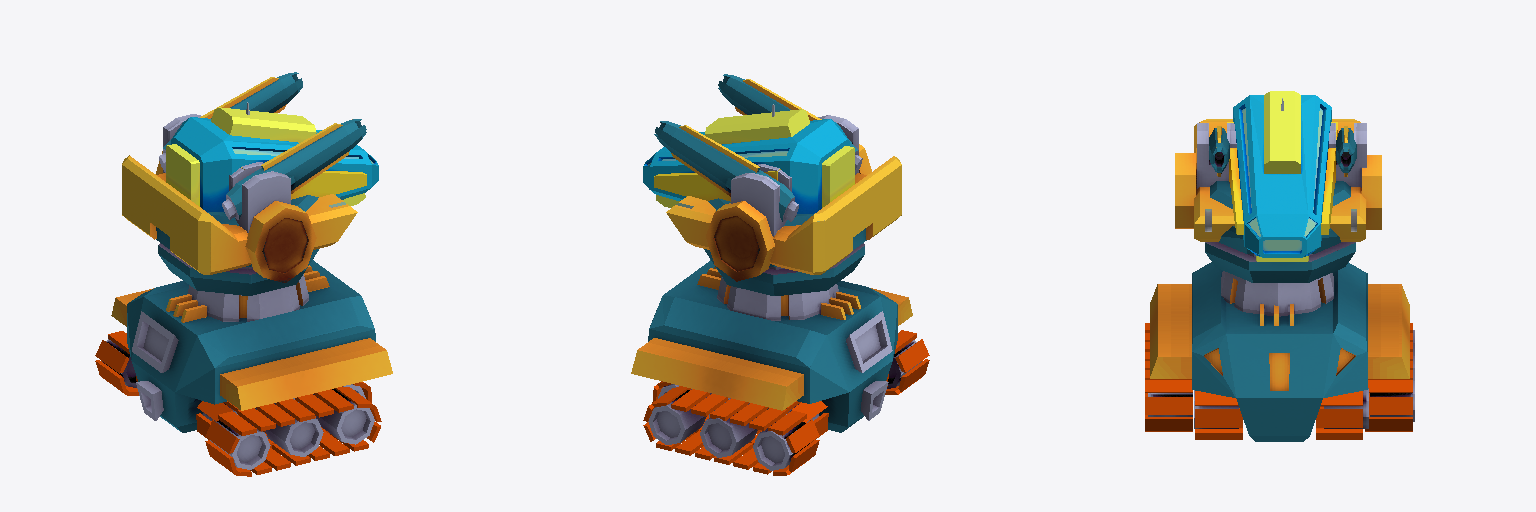
3 views of the same model, side by side, from view 1: azimuth 30°, elevation 25°; view 2: azimuth 150°, elevation 25°; view 3: azimuth 270°, elevation 25° (orthographic).
Visible parts, largest first — view 1: Object008, Box020, Object014, Box018, Box019, Box017; view 2: Object008, Object014, Box019, Box018, Box020, Box016; view 3: Object008, Box020, Box019, Box017, Box016, Object014, Box018, Box009.
Part boxes in pixels (left/top/right/bottom): Object008: left=111, top=107, right=392, bottom=432; Box020: left=205, top=387, right=381, bottom=476; Object014: left=159, top=72, right=366, bottom=219; Box018: left=102, top=339, right=374, bottom=469; Box019: left=95, top=331, right=138, bottom=395; Box017: left=196, top=382, right=371, bottom=447; Object008: left=631, top=109, right=912, bottom=432; Object014: left=654, top=74, right=862, bottom=221; Box019: left=643, top=386, right=819, bottom=475; Box018: left=648, top=340, right=921, bottom=470; Box020: left=885, top=330, right=929, bottom=394; Box016: left=652, top=381, right=828, bottom=444; Object008: left=1150, top=91, right=1409, bottom=441; Box020: left=1145, top=323, right=1192, bottom=431; Box019: left=1365, top=323, right=1412, bottom=431; Box017: left=1195, top=391, right=1242, bottom=439; Box016: left=1316, top=391, right=1362, bottom=439; Object014: left=1209, top=126, right=1356, bottom=176; Box018: left=1148, top=330, right=1414, bottom=421; Box009: left=1194, top=388, right=1368, bottom=428.
Bounding box in the file's own units: 65.77 × 86.35 × 68.55.
Materials: 5 (2 with a texture image).